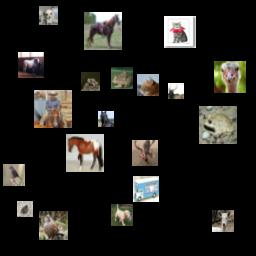bird: (214, 61, 246, 93), (39, 211, 68, 240), (3, 164, 25, 186)
cat: (164, 16, 196, 48), (137, 74, 159, 96)
deer: (132, 140, 158, 166), (212, 210, 234, 232), (168, 83, 184, 99)
dog: (111, 204, 133, 226), (39, 6, 58, 25)
frog: (199, 106, 237, 144), (111, 67, 133, 89), (81, 72, 100, 91), (17, 201, 33, 217)
truck: (133, 176, 159, 202)
